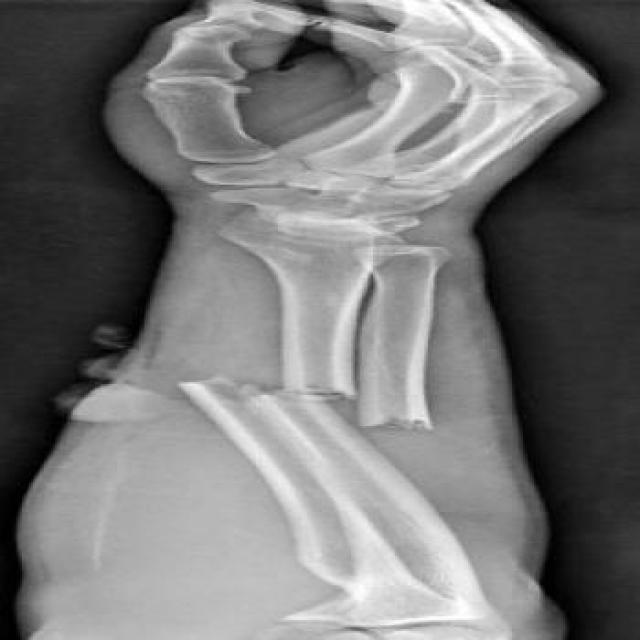fracture: (154, 374, 499, 445)
